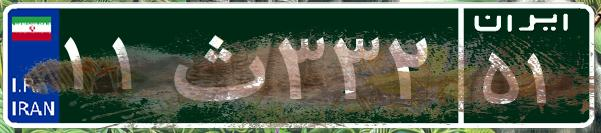1: (57, 26, 110, 107), (110, 28, 158, 105), (525, 38, 570, 115)
2: (385, 28, 445, 110)
3: (273, 28, 330, 110), (330, 28, 385, 110)
5: (475, 38, 525, 113)
ث: (158, 15, 273, 115)
